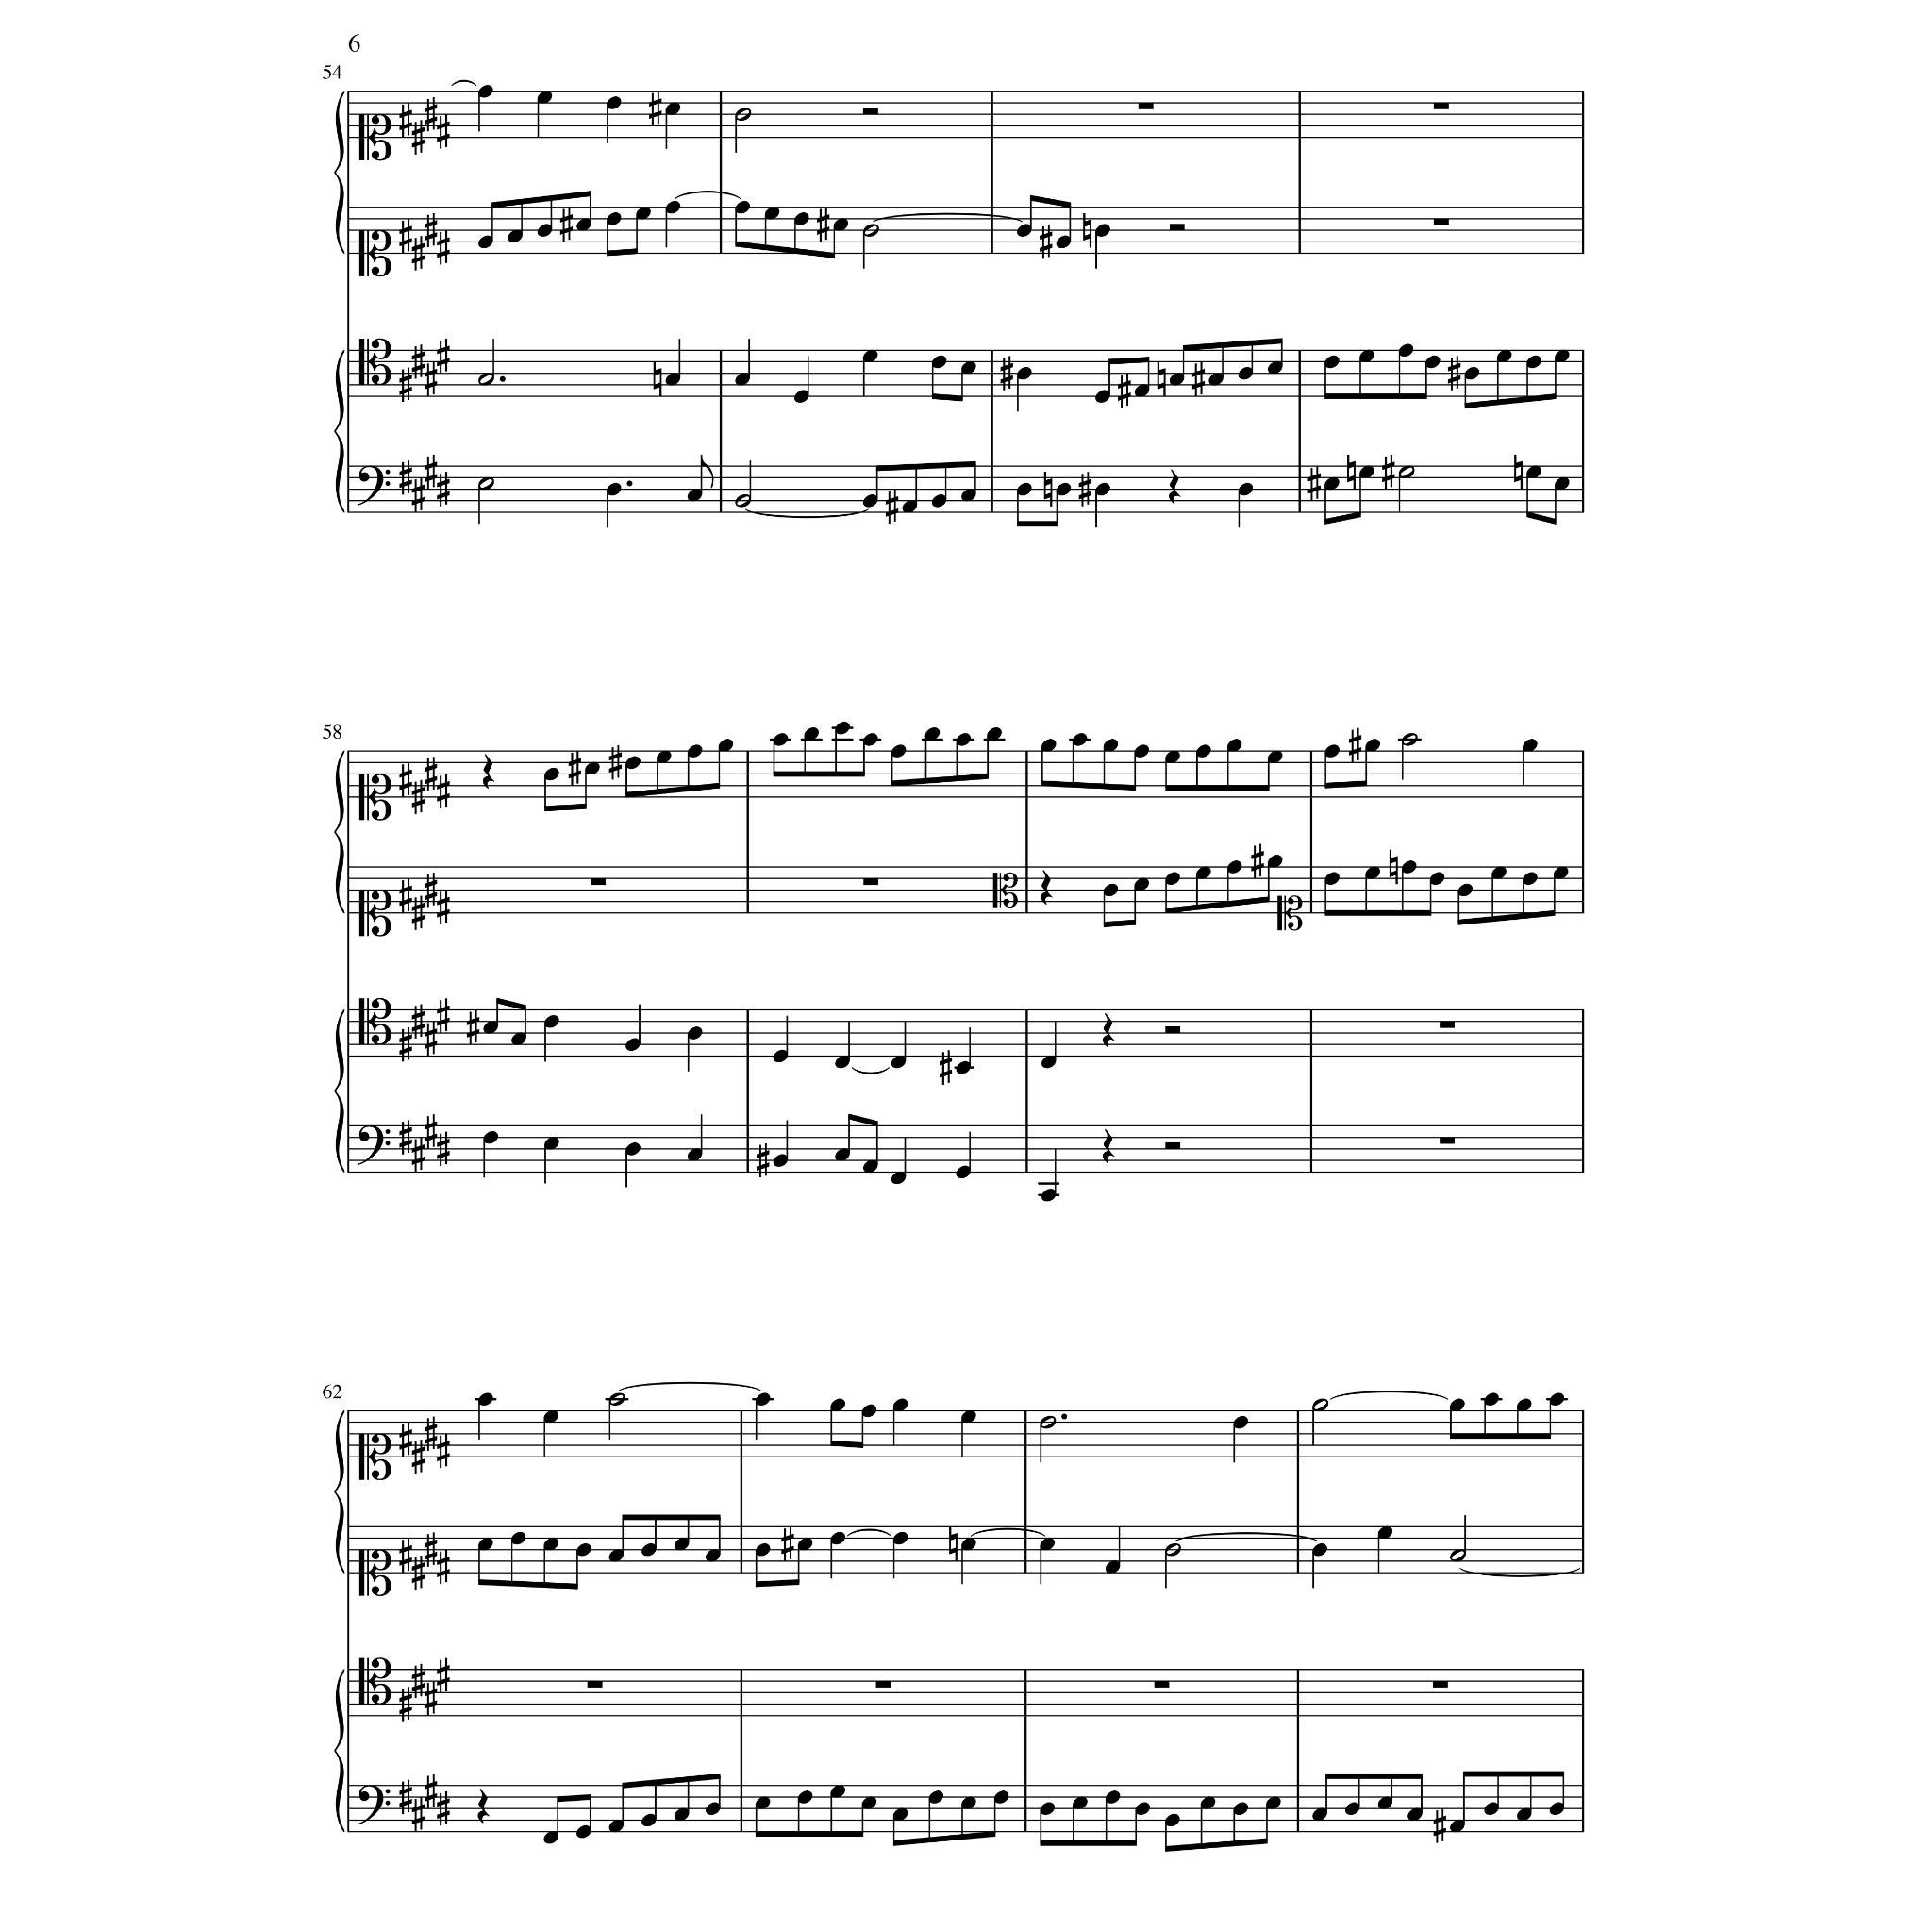brace: (333, 90, 345, 255), (333, 349, 345, 513), (333, 750, 345, 915), (333, 1410, 345, 1575), (333, 1668, 345, 1833), (333, 1010, 345, 1173)
fClef: (357, 465, 391, 506), (357, 1125, 391, 1166), (357, 1785, 391, 1824)
flag8thUp: (701, 456, 715, 490)
noteheadBlack: (1525, 356, 1543, 370), (1525, 465, 1543, 479), (1070, 732, 1088, 747), (985, 727, 1003, 741), (1070, 1796, 1088, 1810), (1483, 1801, 1500, 1815), (672, 1537, 690, 1552), (1267, 361, 1283, 375), (1054, 235, 1070, 249), (1463, 366, 1479, 380), (1424, 356, 1440, 370), (1359, 465, 1375, 479), (536, 90, 552, 104), (686, 488, 702, 502), (665, 103, 681, 117), (665, 200, 681, 214), (508, 230, 524, 244), (478, 235, 494, 249), (734, 200, 750, 214), (862, 494, 878, 508), (961, 361, 977, 375), (961, 488, 977, 502), (1016, 366, 1031, 380), (931, 356, 947, 370), (931, 494, 947, 508), (1194, 745, 1210, 759), (1164, 750, 1180, 764), (1226, 860, 1242, 874), (1267, 750, 1283, 764), (1226, 738, 1242, 752), (1267, 855, 1283, 869), (1134, 745, 1150, 759), (1134, 878, 1150, 892), (1102, 738, 1118, 752), (1522, 738, 1537, 752), (1323, 745, 1339, 759), (1401, 860, 1417, 874), (1364, 738, 1380, 752), (718, 738, 734, 752), (771, 732, 787, 747), (771, 1049, 787, 1063), (655, 750, 671, 764), (686, 745, 702, 759), (686, 1026, 702, 1040), (543, 1136, 559, 1150), (483, 1131, 499, 1145), (890, 745, 906, 759), (890, 1171, 906, 1185), (924, 727, 939, 741), (862, 732, 878, 747), (862, 1159, 878, 1173), (1040, 738, 1056, 752), (955, 732, 971, 747), (955, 1166, 971, 1180), (803, 727, 819, 741), (1164, 1813, 1180, 1828), (1200, 1796, 1215, 1810), (1233, 1415, 1249, 1430), (1233, 1801, 1249, 1815), (1311, 1543, 1327, 1557), (1039, 1537, 1054, 1552), (1039, 1801, 1054, 1815), (1134, 1801, 1150, 1815), (1548, 1801, 1564, 1815), (1516, 1398, 1532, 1412), (1376, 1525, 1392, 1539), (1376, 1796, 1392, 1810), (1345, 1801, 1361, 1815), (1449, 1398, 1465, 1412), (575, 1543, 591, 1557), (704, 1801, 720, 1815), (640, 1543, 656, 1557), (640, 1813, 656, 1828), (543, 1410, 559, 1424), (543, 1537, 559, 1552), (478, 1537, 494, 1552), (862, 1405, 878, 1419), (862, 1796, 878, 1810), (892, 1398, 908, 1412), (830, 1398, 846, 1412), (830, 1785, 846, 1799), (961, 1410, 977, 1424), (961, 1537, 977, 1552), (961, 1796, 977, 1810), (754, 1796, 770, 1810), (796, 1537, 812, 1552), (754, 1543, 770, 1557), (901, 501, 918, 513), (1483, 1394, 1500, 1407), (672, 1808, 690, 1821), (1325, 356, 1339, 370), (1238, 366, 1253, 380), (626, 755, 640, 770), (1267, 1796, 1281, 1810), (1168, 373, 1184, 386), (1134, 386, 1150, 398), (1208, 373, 1224, 386), (1093, 225, 1109, 237), (1093, 391, 1109, 403), (1093, 483, 1109, 495), (1054, 483, 1070, 495), (1553, 350, 1569, 363), (1553, 478, 1569, 490), (1495, 350, 1511, 363), (1359, 350, 1375, 363), (1398, 345, 1414, 357), (607, 97, 623, 110), (607, 212, 623, 225), (607, 483, 623, 495), (536, 225, 552, 237), (575, 219, 591, 232), (635, 207, 651, 219), (665, 373, 681, 386), (478, 85, 494, 97), (833, 219, 849, 232), (862, 350, 878, 363), (1016, 225, 1031, 237), (1016, 483, 1031, 495), (734, 373, 750, 386), (794, 391, 810, 403), (794, 212, 810, 225), (764, 207, 780, 219), (1164, 872, 1180, 885), (1194, 867, 1210, 879), (1102, 885, 1118, 897), (1522, 872, 1537, 885), (1552, 867, 1568, 879), (1458, 885, 1474, 897), (1491, 867, 1507, 879), (1323, 872, 1339, 885), (1430, 872, 1445, 885), (1364, 867, 1380, 879), (584, 763, 600, 775), (686, 1148, 702, 1161), (510, 1033, 525, 1046), (543, 768, 559, 780), (543, 1016, 559, 1028), (483, 1021, 499, 1033), (890, 1056, 906, 1069), (771, 1155, 787, 1168), (1040, 1056, 1056, 1069), (1040, 1189, 1056, 1201), (955, 1062, 971, 1074), (835, 1148, 851, 1161), (835, 1056, 851, 1069), (835, 722, 851, 734), (1311, 1808, 1327, 1821), (993, 1790, 1008, 1803), (1104, 1560, 1120, 1573), (1104, 1790, 1120, 1803), (1516, 1808, 1532, 1821), (1548, 1394, 1564, 1407), (1407, 1808, 1422, 1821), (1449, 1821, 1465, 1833), (609, 1550, 625, 1562), (609, 1821, 625, 1833), (575, 1826, 591, 1838), (704, 1550, 720, 1562), (510, 1532, 525, 1545), (543, 1831, 559, 1844), (478, 1394, 494, 1407), (892, 1532, 908, 1545), (830, 1532, 846, 1545), (892, 1808, 908, 1821), (927, 1790, 943, 1803), (796, 1790, 812, 1803), (754, 1394, 770, 1407), (1325, 478, 1339, 490), (1238, 483, 1253, 495), (626, 1039, 640, 1051), (626, 1143, 640, 1155)
noteheadHalf: (1398, 465, 1415, 479), (1164, 1543, 1182, 1557), (1311, 1398, 1329, 1412), (734, 108, 750, 122), (734, 494, 750, 508), (1401, 732, 1417, 747), (1040, 1415, 1056, 1430), (862, 225, 879, 237), (1449, 1550, 1467, 1562), (609, 1394, 626, 1407), (478, 373, 494, 386), (478, 478, 494, 490)
restHalf: (1168, 223, 1184, 232), (863, 108, 879, 115), (1164, 1143, 1180, 1150), (1164, 1026, 1180, 1033)
restQuarter: (476, 1787, 490, 1824), (481, 754, 495, 789), (1168, 469, 1180, 504), (1102, 1129, 1115, 1164), (1102, 1014, 1115, 1049), (1040, 870, 1053, 906)
restWhole: (863, 878, 879, 886), (591, 878, 607, 886), (1438, 1021, 1454, 1030), (1138, 103, 1154, 110), (1433, 219, 1449, 226), (1433, 103, 1449, 110), (1438, 1138, 1454, 1145), (1154, 1681, 1169, 1688), (876, 1681, 892, 1688), (586, 1681, 602, 1688), (1433, 1681, 1449, 1688)
